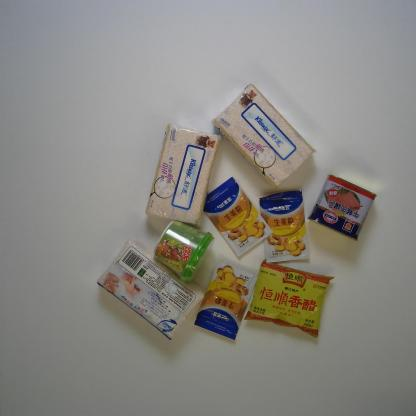Canned Food: (300, 172, 376, 244)
Instant Drink: (152, 218, 215, 284)
Seasoner: (243, 256, 336, 339), (196, 175, 278, 261), (193, 255, 260, 343), (255, 185, 313, 267)
Tissue: (209, 81, 318, 194), (95, 236, 208, 340), (144, 120, 224, 228)
